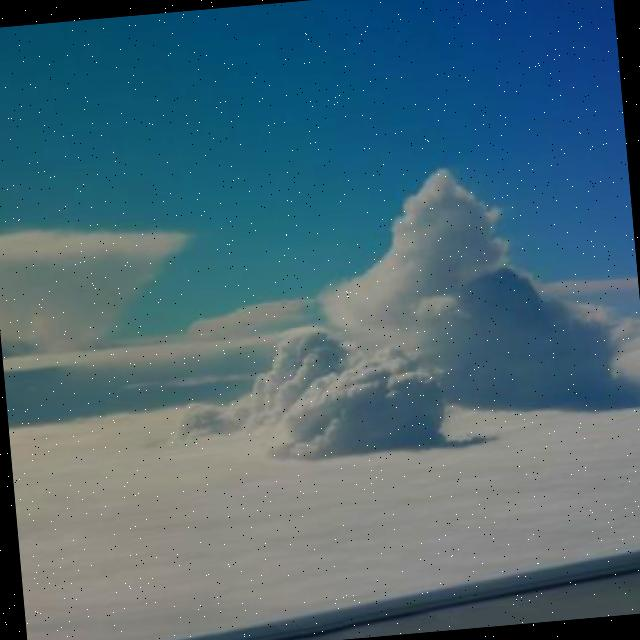Cb: (1, 141, 640, 571)
